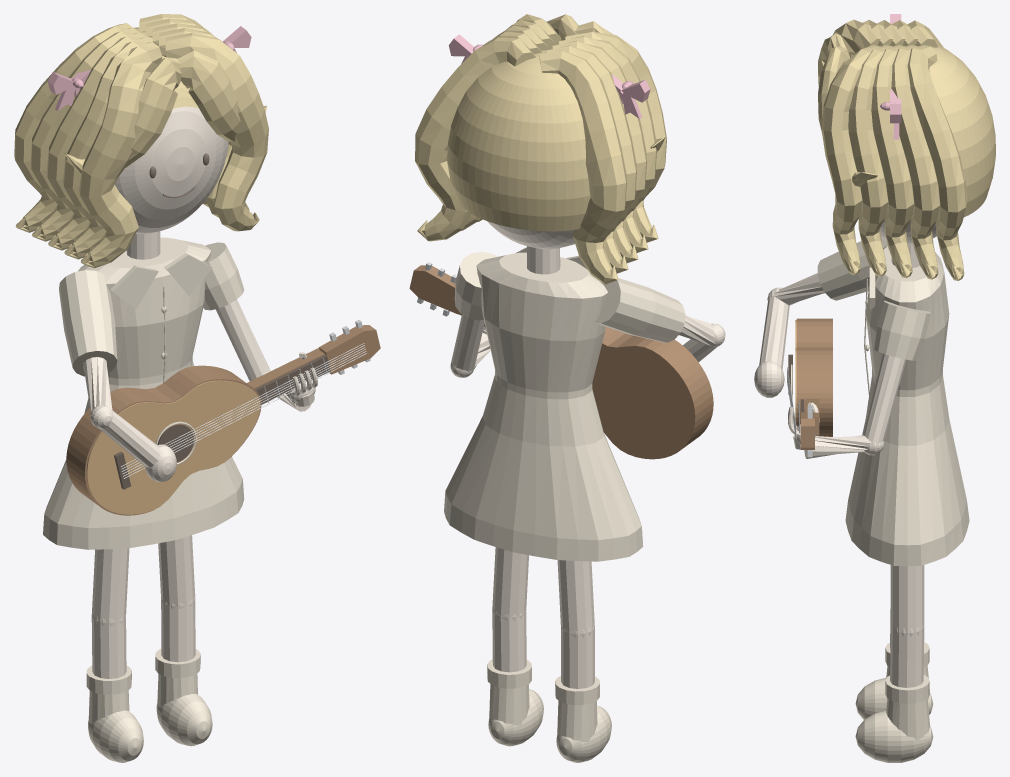
File: 02_blonde_guitarist.glb
3 views of the same model, side by side, from view 1: azimuth 30°, elevation 25°; view 2: azimuth 150°, elevation 25°; view 3: azimuth 270°, elevation 25° (orthographic).
Visible parts, largest first — view 1: goldhair, cream, skin, wood, woodside, hole, metal, pink; view 2: cream, goldhair, skin, woodside, pink; view 3: goldhair, cream, skin, woodside, pink.
Boxes of the visible parts, <box> form: goldhair: <box>14,14,268,268</box>; cream: <box>43,237,244,762</box>; skin: <box>83,106,317,678</box>; wood: <box>86,380,260,514</box>; woodside: <box>66,325,380,515</box>; hole: <box>114,354,330,489</box>; metal: <box>121,320,370,478</box>; pink: <box>47,26,251,110</box>; cream: <box>444,247,685,762</box>; goldhair: <box>415,14,666,284</box>; skin: <box>450,221,725,688</box>; woodside: <box>409,265,713,459</box>; pink: <box>448,34,650,118</box>; goldhair: <box>818,19,995,280</box>; cream: <box>790,238,969,762</box>; skin: <box>754,219,936,687</box>; woodside: <box>796,318,832,449</box>; pink: <box>880,14,901,139</box>.
Size of the model in its own units: 0.7027 by 1.62 by 0.5007.
